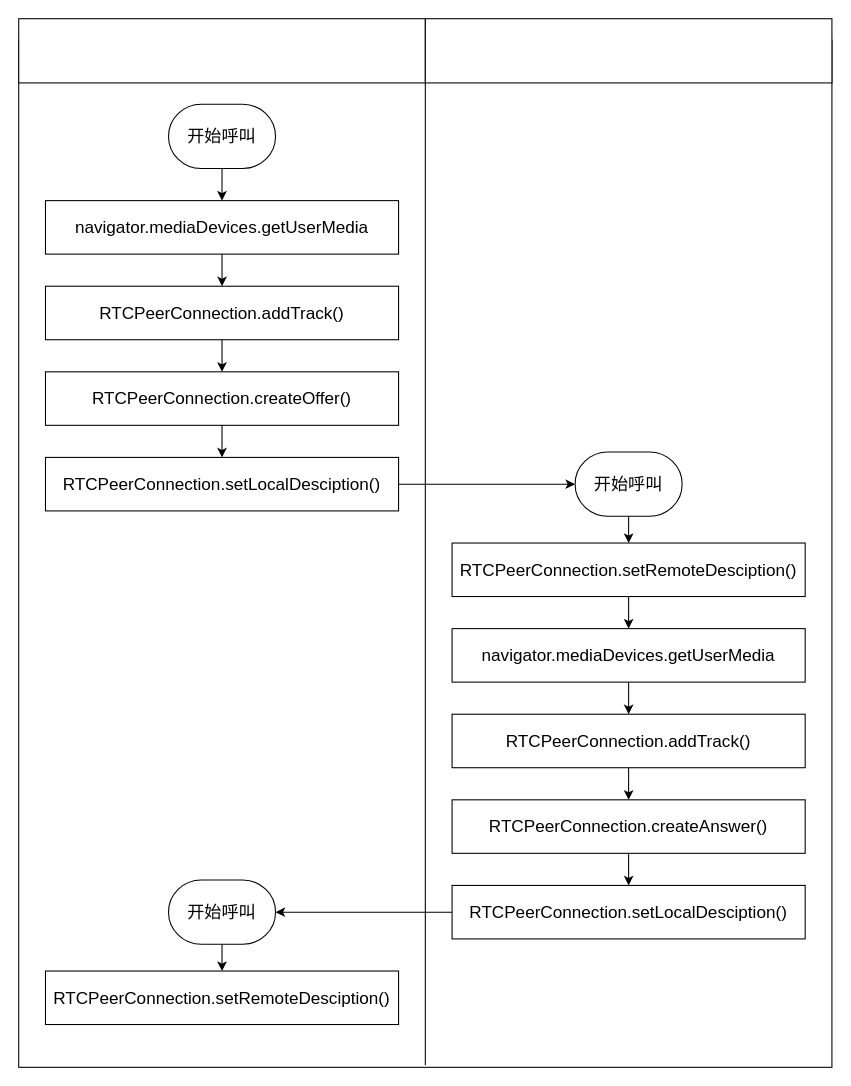
This 851x1086 diagram has some shape labels left out. The centre of each missing label's shape, as x and y in pixels:
"客户端A" goes at (221,50).
"客户端B" goes at (628,50).
